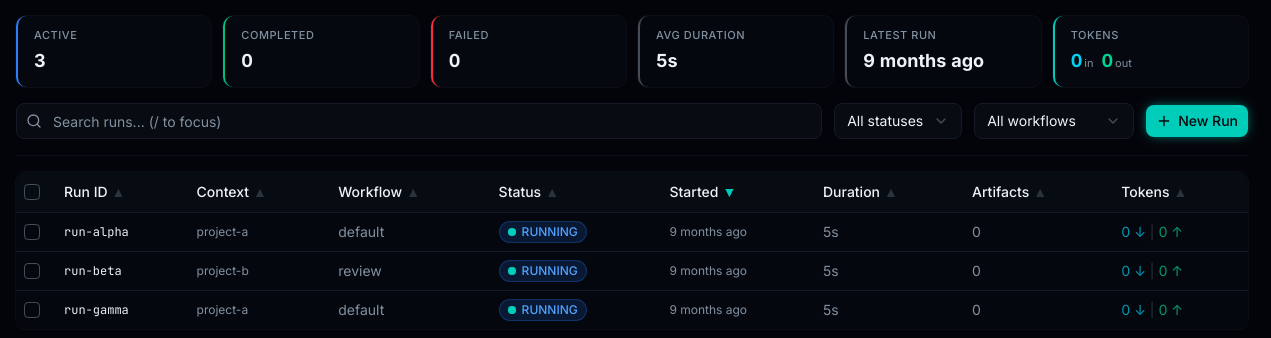
Test: RunListPage - search filter › filters runs by workflow name
Expected: the text "run-alpha" is shown, [56,212,188,251]
Type "review" into the field with placeholder "Search runs... (/ to focus)". click: (419,121)
box: [16,103,822,139]
Wait 350 ms
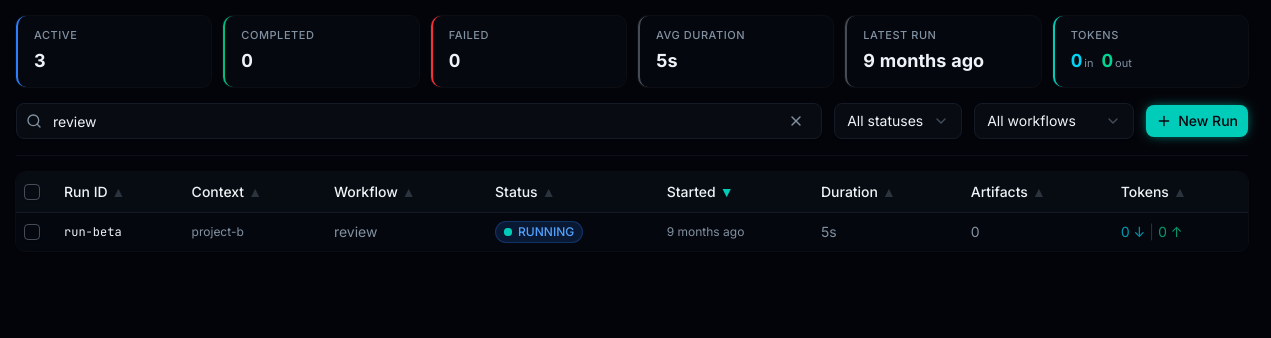
Expected: the text "run-beta" is shown, [56,212,184,251]
Result: the link "run-alpha" is gone
Result: the link "run-gamma" is gone
